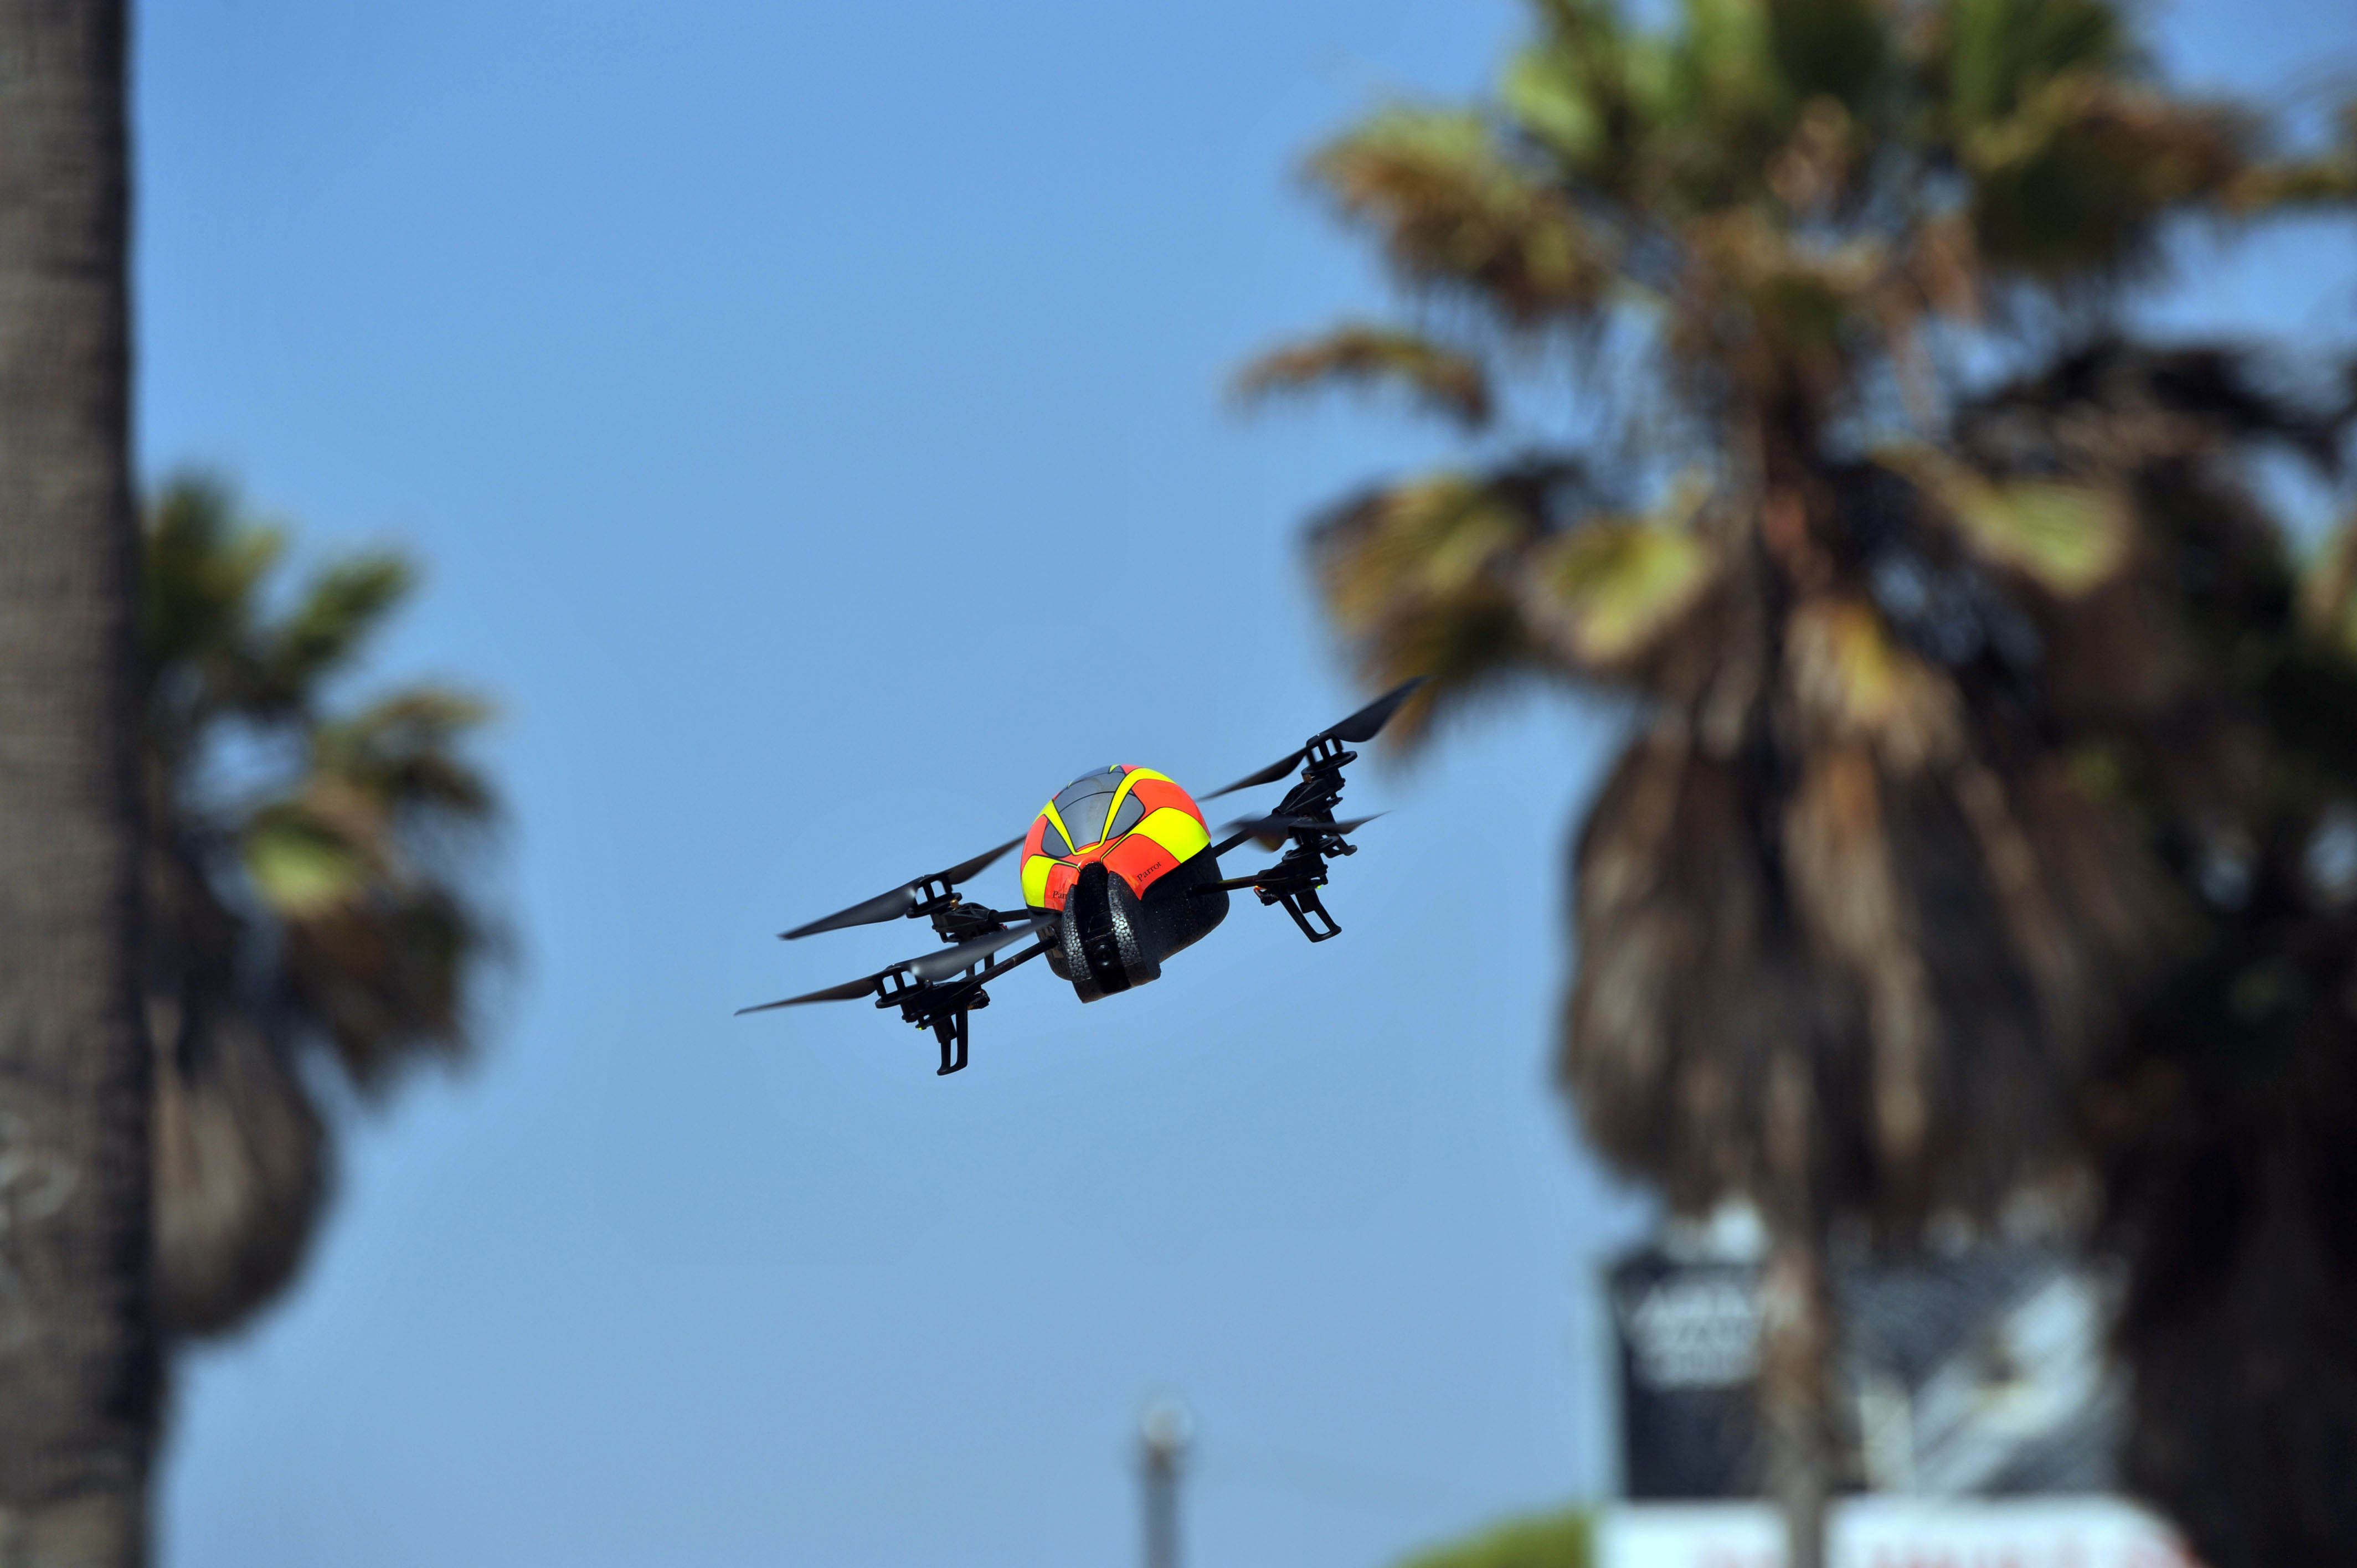drone: (735, 663, 1452, 1080)
